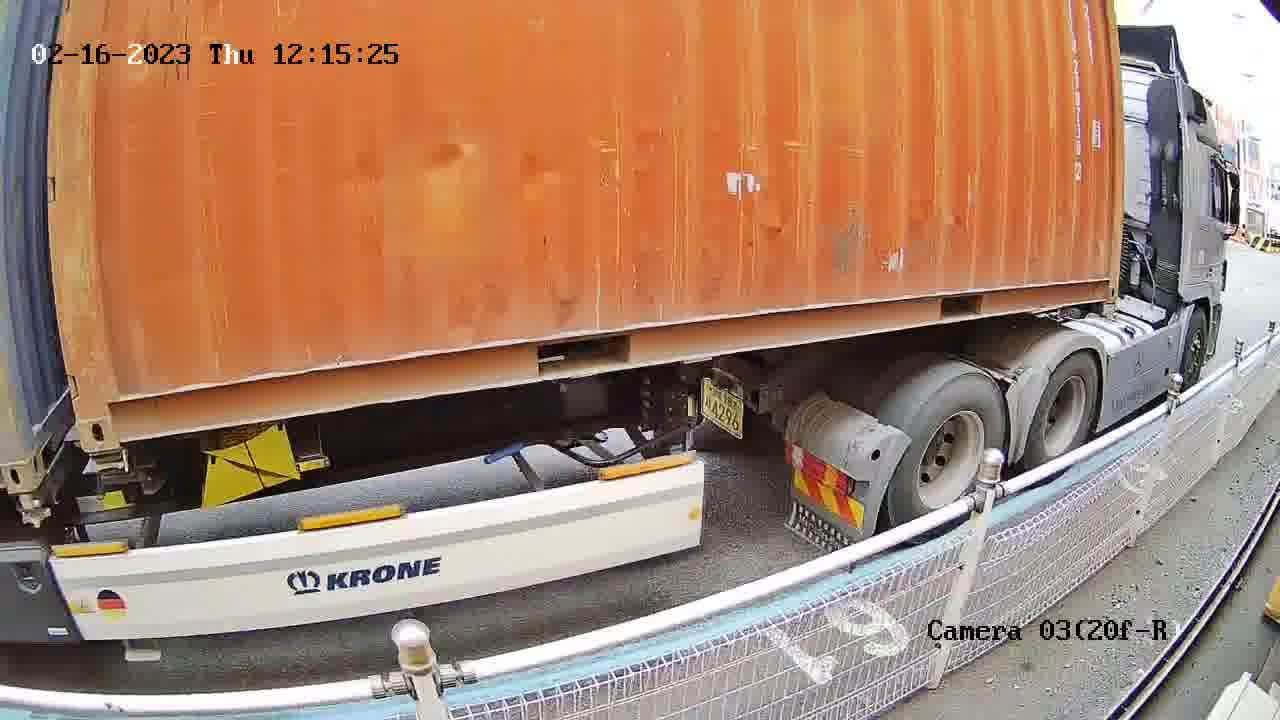Cone: (8, 476, 59, 535), (84, 443, 135, 491)
Hole_L: (67, 368, 152, 453), (17, 380, 72, 492)
Hole_R: (1, 421, 31, 495), (1086, 260, 1122, 303)
Tire: (894, 372, 1008, 520), (1029, 356, 1099, 460)
